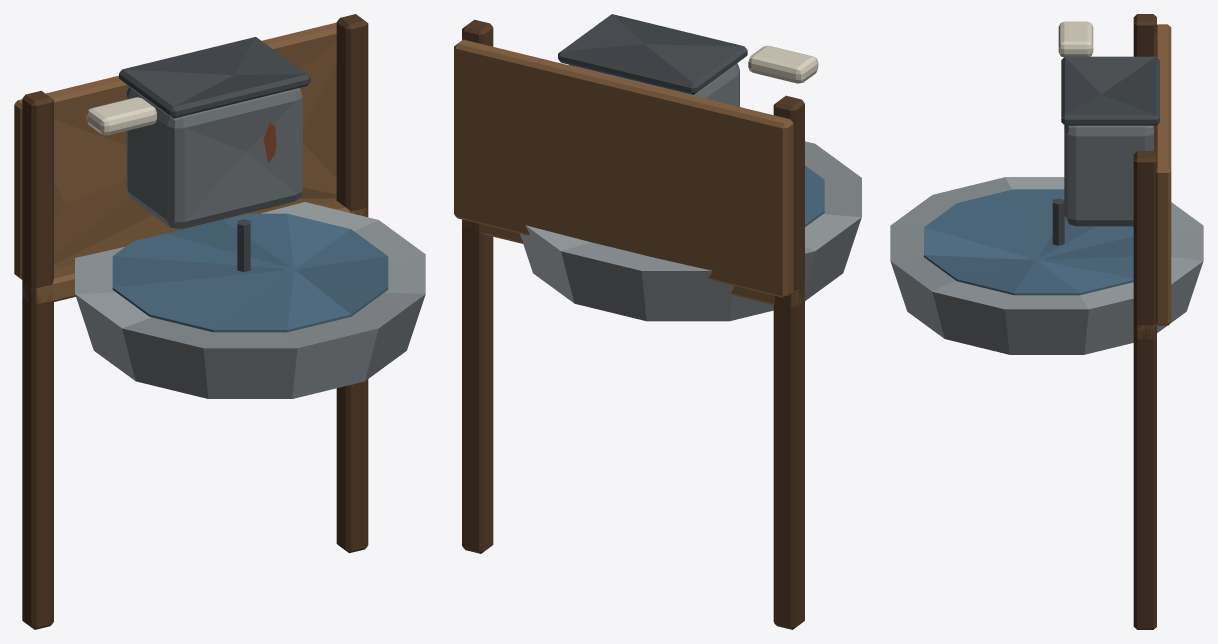
The model's file is sink_tap_umyvalnik_idle.glb.
3 renders of one model, left to right at view 1: azimuth 30°, elevation 25°; view 2: azimuth 150°, elevation 25°; view 3: azimuth 270°, elevation 25°, orthographic. The views are drawn at different scales.
Visible parts, largest first — view 1: sink_tap_umyvalnik_idle; view 2: sink_tap_umyvalnik_idle; view 3: sink_tap_umyvalnik_idle.
Boxes of the visible parts, <box> form: sink_tap_umyvalnik_idle: <box>14,14,425,629</box>; sink_tap_umyvalnik_idle: <box>454,14,861,629</box>; sink_tap_umyvalnik_idle: <box>890,14,1203,629</box>.
Bounding box in the file's own units: 0.6 × 0.91 × 0.5409.
1 material, 1 textured.
